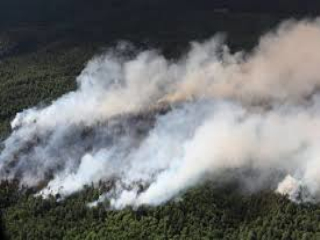smoke: (6, 95, 126, 201), (98, 139, 216, 210), (279, 160, 318, 204)
